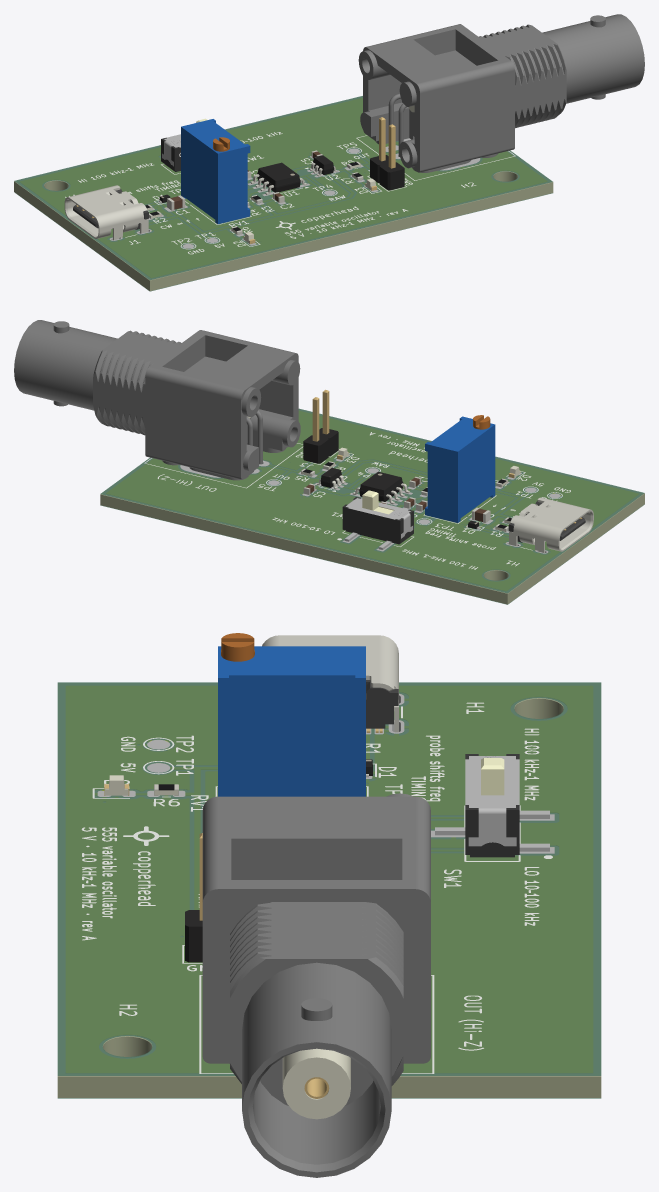
File: 555-oscillator.glb
3 renders of one model, top to bottom at view 1: azimuth 30°, elevation 25°; view 2: azimuth 150°, elevation 25°; view 3: azimuth 270°, elevation 25°, orthographic. The views are drawn at different scales.
Visible parts, largest first — view 1: =>[0:1:1:30], =>[0:1:1:11], =>[0:1:1:26], =>[0:1:1:32], =>[0:1:1:21], =>[0:1:1:15], =>[0:1:1:29], =>[0:1:1:7], =>[0:1:1:25], =>[0:1:1:27], =>[0:1:1:3], =>[0:1:1:31]; view 2: =>[0:1:1:30], =>[0:1:1:11], =>[0:1:1:26], =>[0:1:1:32], =>[0:1:1:21], =>[0:1:1:15], =>[0:1:1:3], =>[0:1:1:29], =>[0:1:1:7], =>[0:1:1:27], =>[0:1:1:25], =>[0:1:1:31]; view 3: =>[0:1:1:30], =>[0:1:1:26], =>[0:1:1:11], =>[0:1:1:21], =>[0:1:1:32], =>[0:1:1:29], =>[0:1:1:3], =>[0:1:1:15], =>[0:1:1:7], =>[0:1:1:27].
Boxes of the visible parts, x1,y1,x2,y2 form: =>[0:1:1:30]: (14,96,552,280); =>[0:1:1:11]: (358,14,644,172); =>[0:1:1:26]: (21,98,546,277); =>[0:1:1:32]: (14,97,553,291); =>[0:1:1:21]: (181,119,250,224); =>[0:1:1:15]: (64,185,148,240); =>[0:1:1:29]: (65,132,515,254); =>[0:1:1:7]: (370,117,404,190); =>[0:1:1:25]: (250,162,307,194); =>[0:1:1:27]: (109,138,480,248); =>[0:1:1:3]: (161,118,207,171); =>[0:1:1:31]: (14,192,552,291); =>[0:1:1:30]: (100,408,644,593); =>[0:1:1:11]: (14,320,300,480); =>[0:1:1:26]: (106,411,637,590); =>[0:1:1:32]: (100,409,644,604); =>[0:1:1:21]: (425,415,495,522); =>[0:1:1:15]: (508,497,593,552); =>[0:1:1:3]: (342,490,413,549); =>[0:1:1:29]: (144,432,570,569); =>[0:1:1:7]: (303,389,338,463); =>[0:1:1:27]: (180,454,560,553); =>[0:1:1:25]: (352,471,409,504); =>[0:1:1:31]: (100,504,644,604); =>[0:1:1:30]: (57,682,601,1075); =>[0:1:1:26]: (66,686,592,1072); =>[0:1:1:11]: (202,793,430,1177); =>[0:1:1:21]: (218,633,365,796); =>[0:1:1:32]: (57,683,601,1097); =>[0:1:1:29]: (81,702,552,1073); =>[0:1:1:3]: (435,754,549,857); =>[0:1:1:15]: (262,635,398,732); =>[0:1:1:7]: (185,833,202,962); =>[0:1:1:27]: (97,694,554,853).
Bounding box in the file's own units: 0.0805 × 0.0191 × 0.035.
